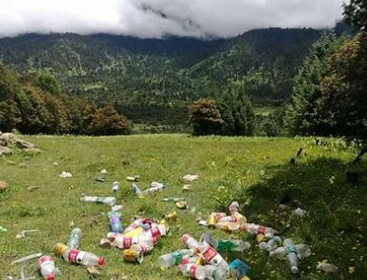garbage: (200, 199, 313, 270), (156, 231, 241, 280), (123, 218, 172, 262), (47, 243, 104, 269), (31, 249, 60, 280), (127, 176, 165, 198), (96, 207, 123, 235), (76, 192, 123, 208), (65, 224, 86, 251), (180, 170, 202, 194), (100, 227, 123, 249), (162, 206, 182, 224)
